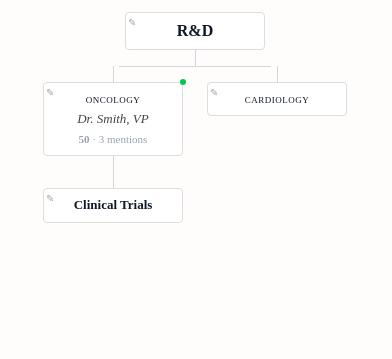
TreeView › enters inline edit mode when edit button clicked
Click the button "✎" next to "Oncology": coordinates (50, 92) [46,85,54,100]
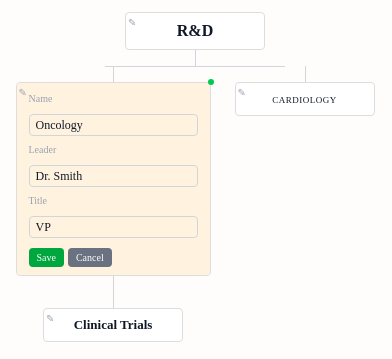
Now the 1st field showing "Oncology" is shown, box [28,114,198,136]
